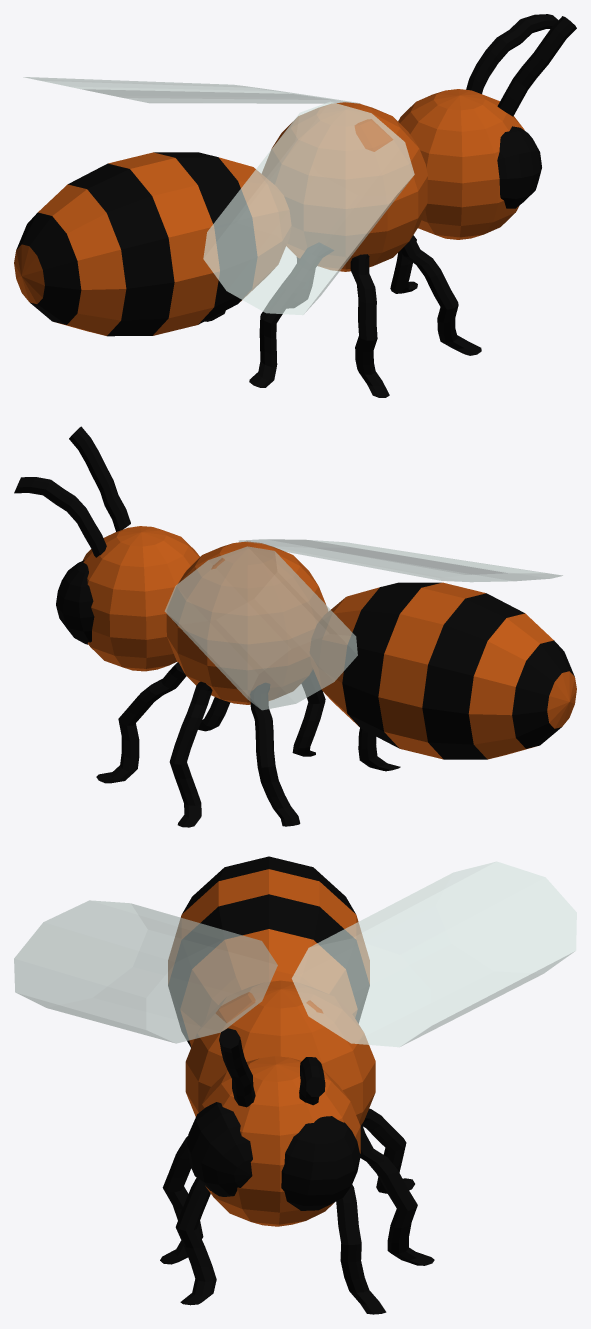
3 renders of one model, top to bottom at view 1: azimuth 30°, elevation 25°; view 2: azimuth 150°, elevation 25°; view 3: azimuth 270°, elevation 25°, orthographic. The views are drawn at different scales.
Visible parts, largest first — view 1: group1147170821, group1284537710, group433261968, group165695018, group1747397838, group281193165, group1361532911, group1992860481, group916117618, group1444295615, group234171500, group1143103459; view 2: group1147170821, group1747397838, group433261968, group165695018, group1284537710, group1703551583, group383608342, group1143103459, group766564275, group234171500, group1444295615, group1992860481 (+2 smaller); view 3: group1747397838, group1284537710, group1147170821, group433261968, group165695018, group766564275, group1361532911, group383608342, group916117618, group1143103459, group1444295615, group1992860481 (+2 smaller).
Part boxes in pixels (x1,y1,x2,y2): group1147170821: (14, 152, 291, 336); group1284537710: (203, 101, 414, 315); group433261968: (262, 102, 427, 271); group165695018: (398, 89, 524, 239); group1747397838: (23, 77, 360, 103); group281193165: (249, 242, 333, 387); group1361532911: (497, 126, 541, 208); group1992860481: (350, 254, 389, 397); group916117618: (401, 235, 481, 355); group1444295615: (497, 16, 576, 116); group234171500: (466, 14, 558, 93); group1143103459: (390, 235, 417, 293); group1147170821: (310, 582, 576, 759); group1747397838: (165, 546, 357, 710); group433261968: (166, 541, 327, 704); group165695018: (83, 526, 199, 671); group1284537710: (239, 539, 562, 582); group1703551583: (250, 683, 300, 826); group383608342: (169, 681, 212, 827); group1143103459: (96, 662, 186, 783); group766564275: (56, 560, 94, 644); group234171500: (14, 477, 106, 557); group1444295615: (69, 426, 130, 531); group1992860481: (292, 670, 325, 756); group1747397838: (292, 861, 576, 1047); group1284537710: (14, 900, 277, 1043); group1147170821: (168, 856, 369, 1047); group433261968: (185, 980, 375, 1125); group165695018: (199, 1056, 360, 1226); group766564275: (281, 1116, 360, 1210); group1361532911: (186, 1102, 252, 1196); group383608342: (360, 1124, 434, 1265); group916117618: (175, 1177, 216, 1305); group1143103459: (336, 1184, 386, 1314); group1444295615: (219, 1028, 255, 1107); group1992860481: (160, 1136, 203, 1264).
Size of the model in its own units: 0.3391 by 0.1792 by 0.2624.
